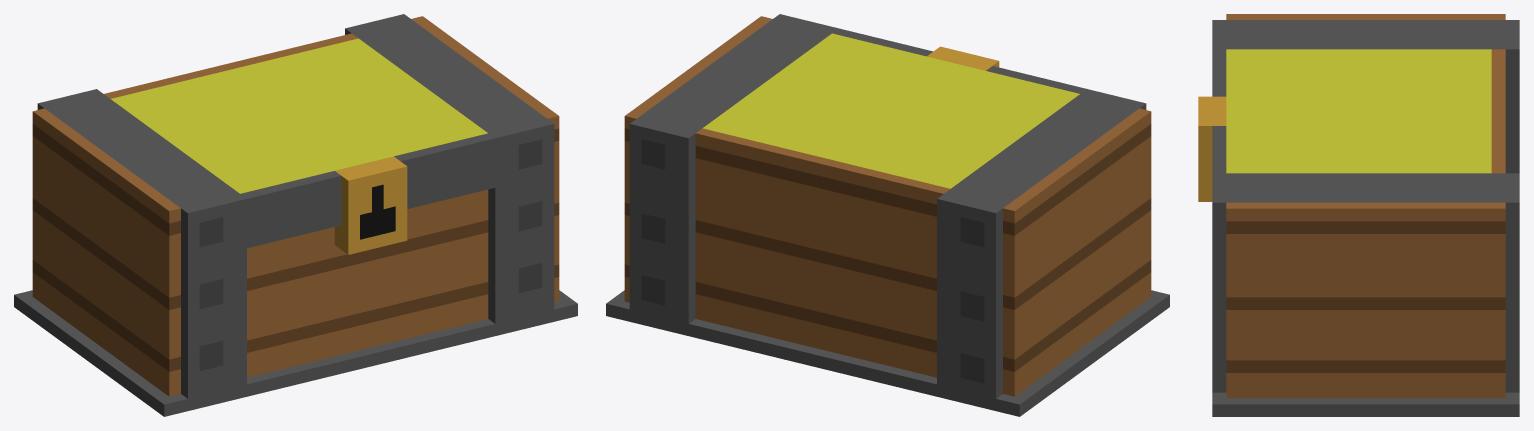
Rendered from Chest.obj.
3 views of the same model, side by side, from view 1: azimuth 30°, elevation 25°; view 2: azimuth 150°, elevation 25°; view 3: azimuth 270°, elevation 25° (orthographic). The views are drawn at different scales.
Bounding box in the file's own units: 3.5 × 1.6 × 2.3.
Materials: 1 (1 with a texture image).
